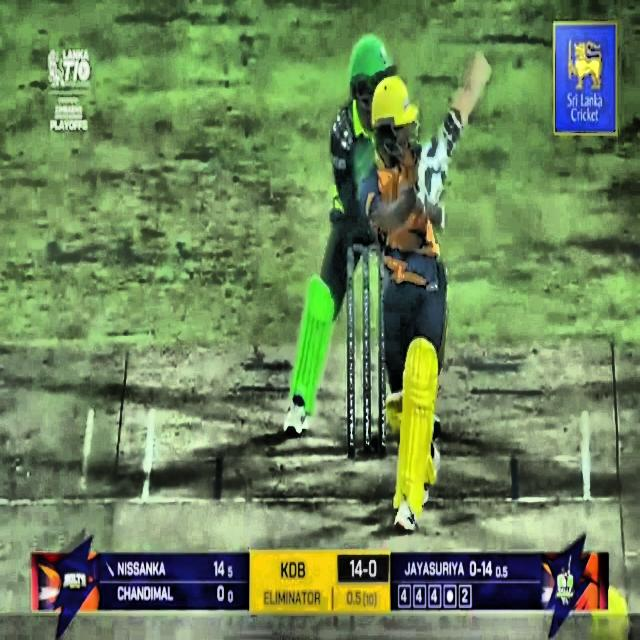Left-stump: (347, 251, 355, 458)
Middle-stump: (363, 250, 371, 457)
Right-stump: (378, 249, 384, 457)
